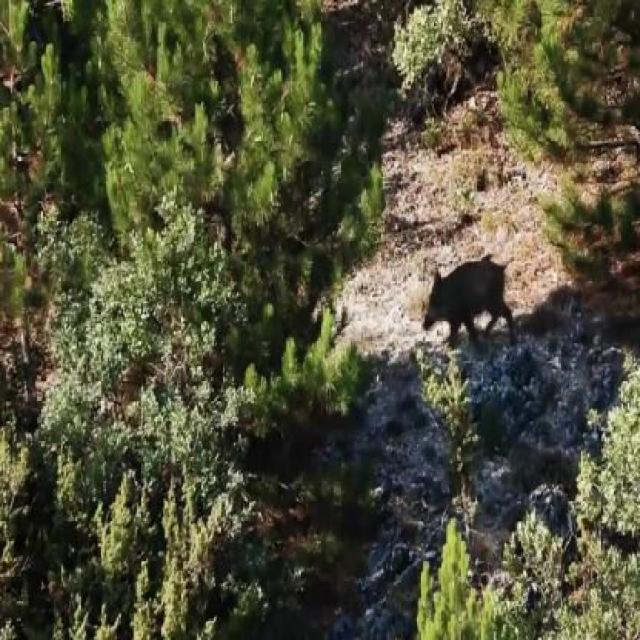pig: (398, 220, 528, 372)
